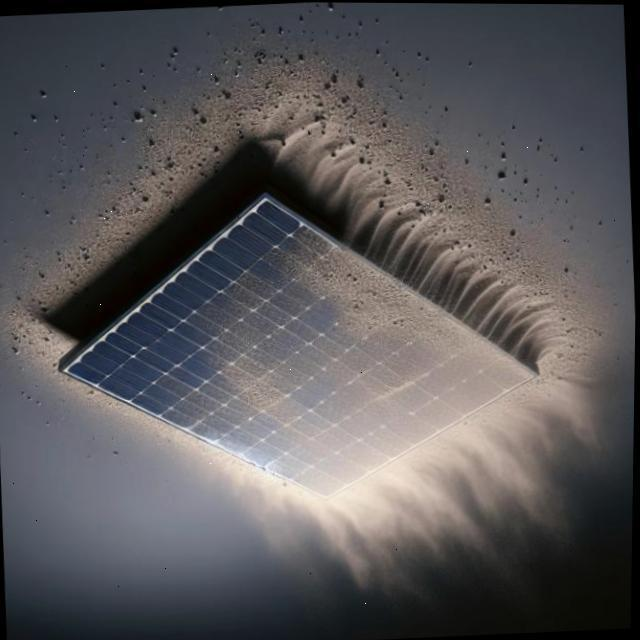Anomaly Solar Panel: (65, 160, 536, 589)
Surface Contaminant: (139, 202, 537, 573)
